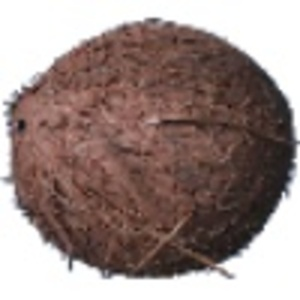coco: (1, 19, 300, 280)
